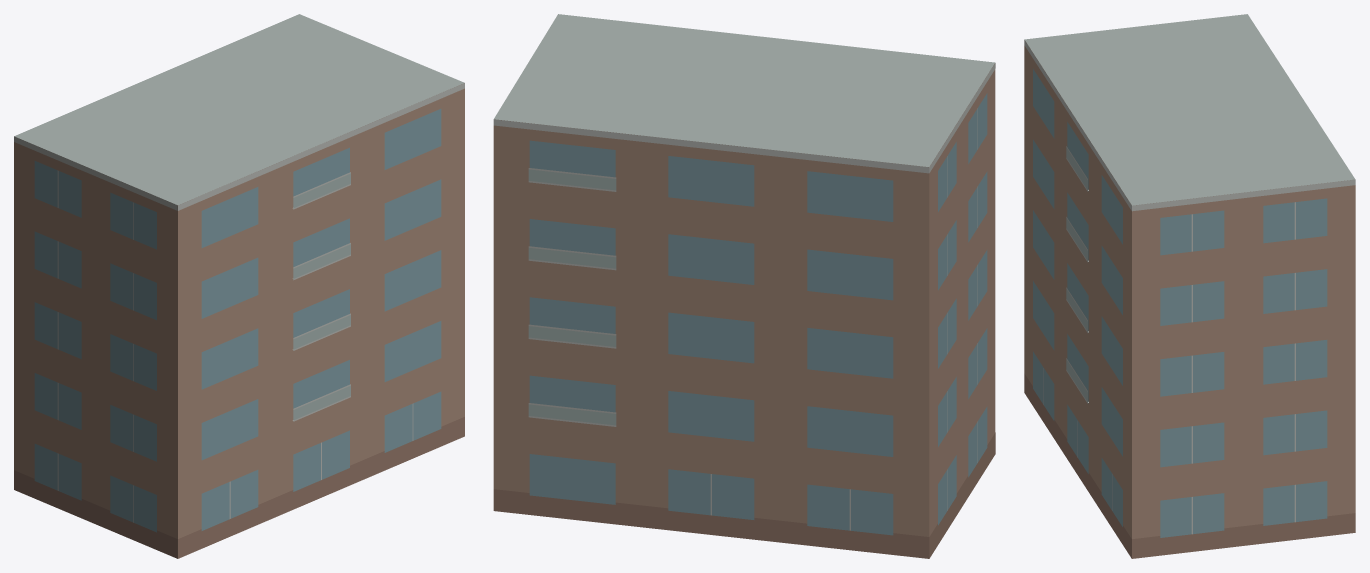
The model's file is survey-upis-32562394.glb.
3 views of the same model, side by side, from view 1: azimuth 30°, elevation 25°; view 2: azimuth 150°, elevation 25°; view 3: azimuth 270°, elevation 25° (orthographic). The views are drawn at different scales.
Visible parts, largest first — view 1: survey-upis-32562394.tmp; view 2: survey-upis-32562394.tmp; view 3: survey-upis-32562394.tmp.
Boxes of the visible parts, x1,y1,x2,y2 form: survey-upis-32562394.tmp: [14, 14, 464, 558]; survey-upis-32562394.tmp: [493, 14, 995, 558]; survey-upis-32562394.tmp: [1024, 14, 1355, 558].
Size of the model in its own units: 17.74 by 15.25 by 12.96.
